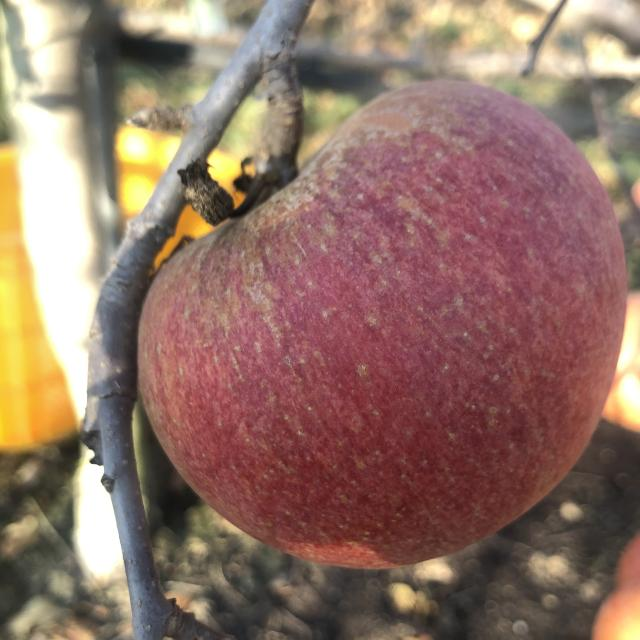fresh: (125, 69, 640, 579)
